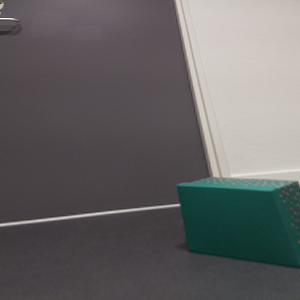small: (175, 176, 300, 268)
